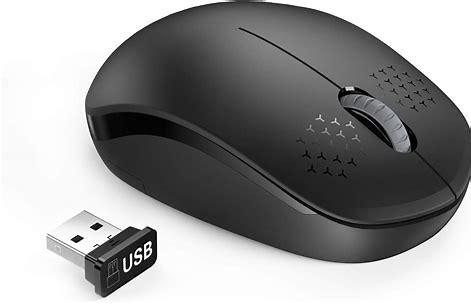computer mouse: (84, 0, 471, 265)
